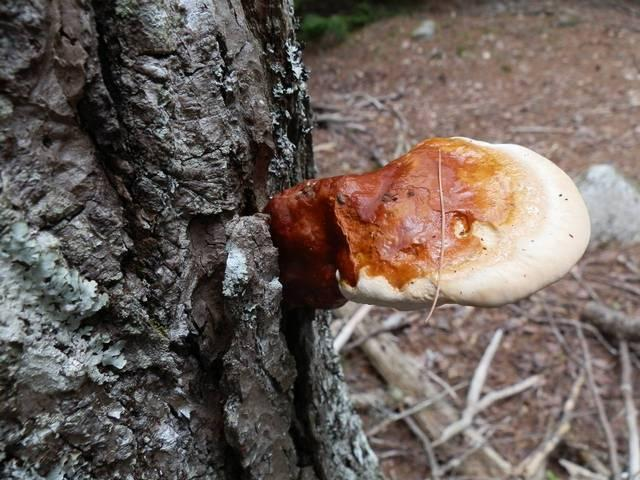poisonous_mushroom: (262, 134, 591, 313)
